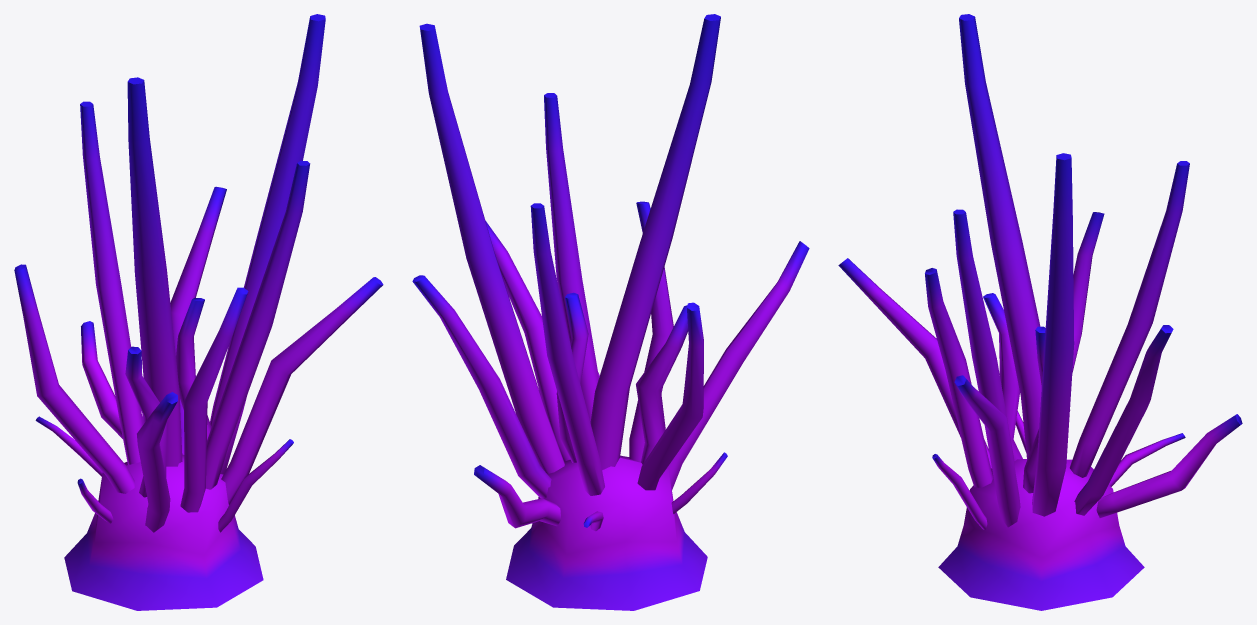
The model's file is Plant_7.fbx.
The picture shows the model from 3 angles, left to right: view 1: azimuth 30°, elevation 25°; view 2: azimuth 150°, elevation 25°; view 3: azimuth 270°, elevation 25°; orthographic projection. The views are drawn at different scales.
Visible parts, largest first — view 1: Cube.022; view 2: Cube.022; view 3: Cube.022.
Boxes of the visible parts, x1=… form: Cube.022: x1=14, y1=14, x2=383, y2=610; Cube.022: x1=412, y1=14, x2=809, y2=610; Cube.022: x1=838, y1=14, x2=1242, y2=610.
Bounding box in the file's own units: 5.29 × 9.05 × 6.4.
Materials: 1 (1 with a texture image).
